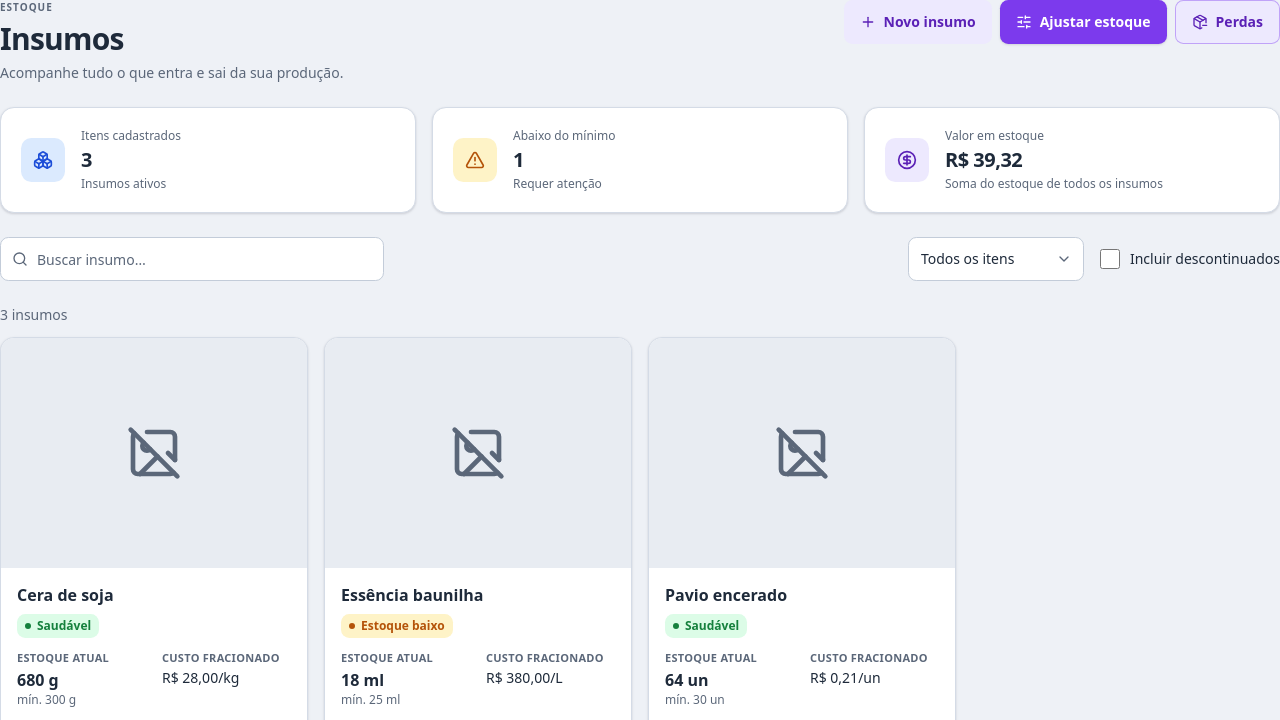
registering a material › asks for every empty required field instead of sending zeros
The width and height of the screenshot is (1280, 720).
Expected: the link "Cera de soja" is shown, top-left (17, 584), bottom-right (114, 606)
Click the button "Novo insumo" at [918, 22], box top-left (844, 0), bottom-right (992, 44)
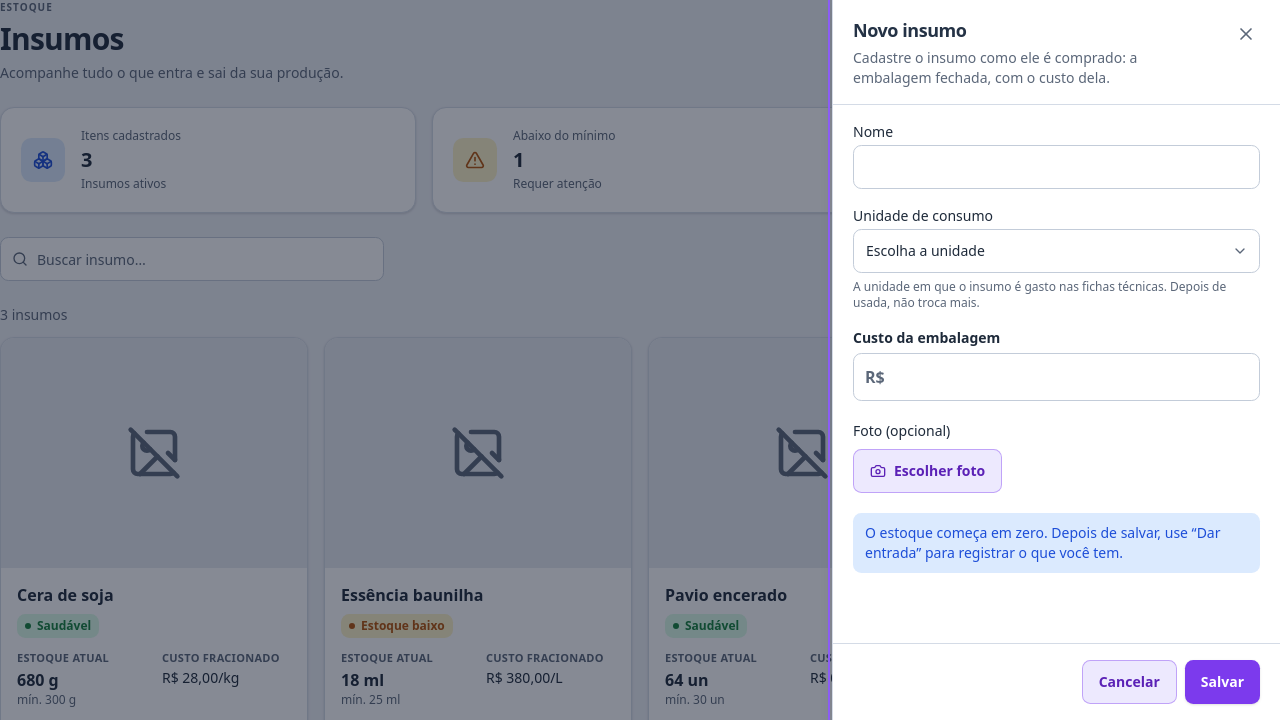
Select "Gramas (g)" in the dropdown labelled "Unidade de consumo" at [1056, 251], box top-left (853, 229), bottom-right (1260, 273)
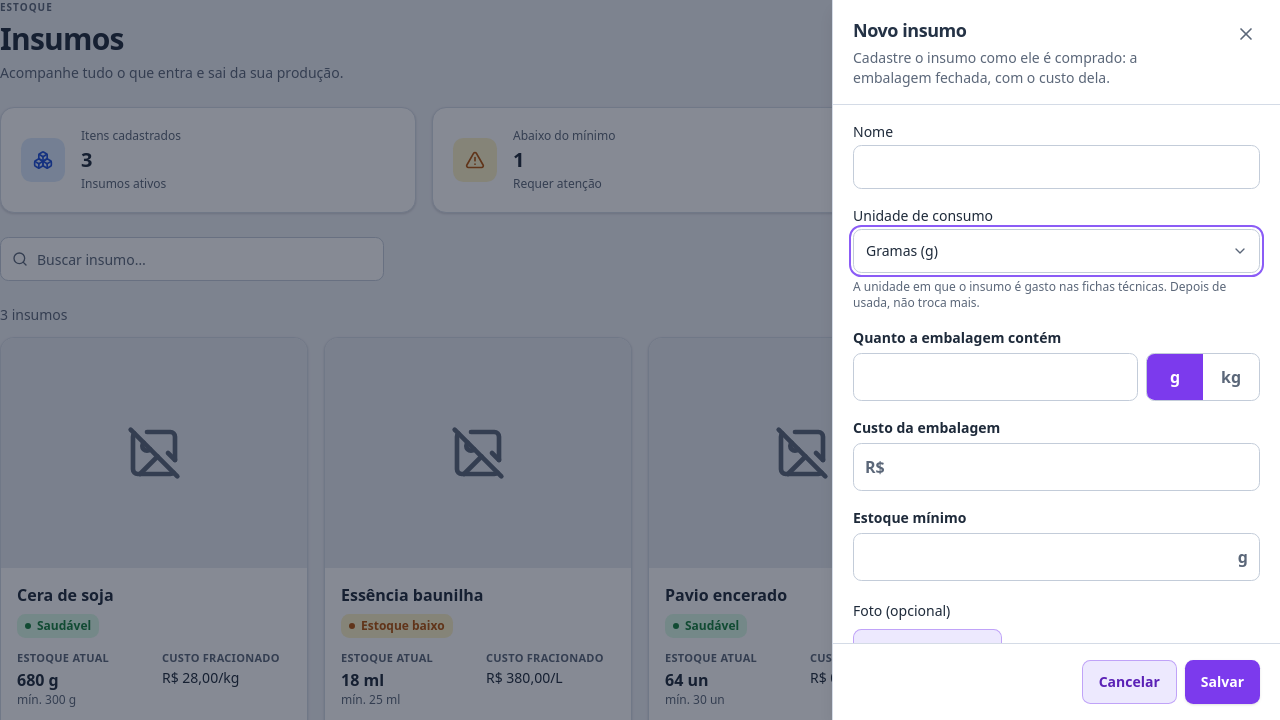
Click the button "Salvar" at [1222, 682], box top-left (1185, 660), bottom-right (1260, 704)
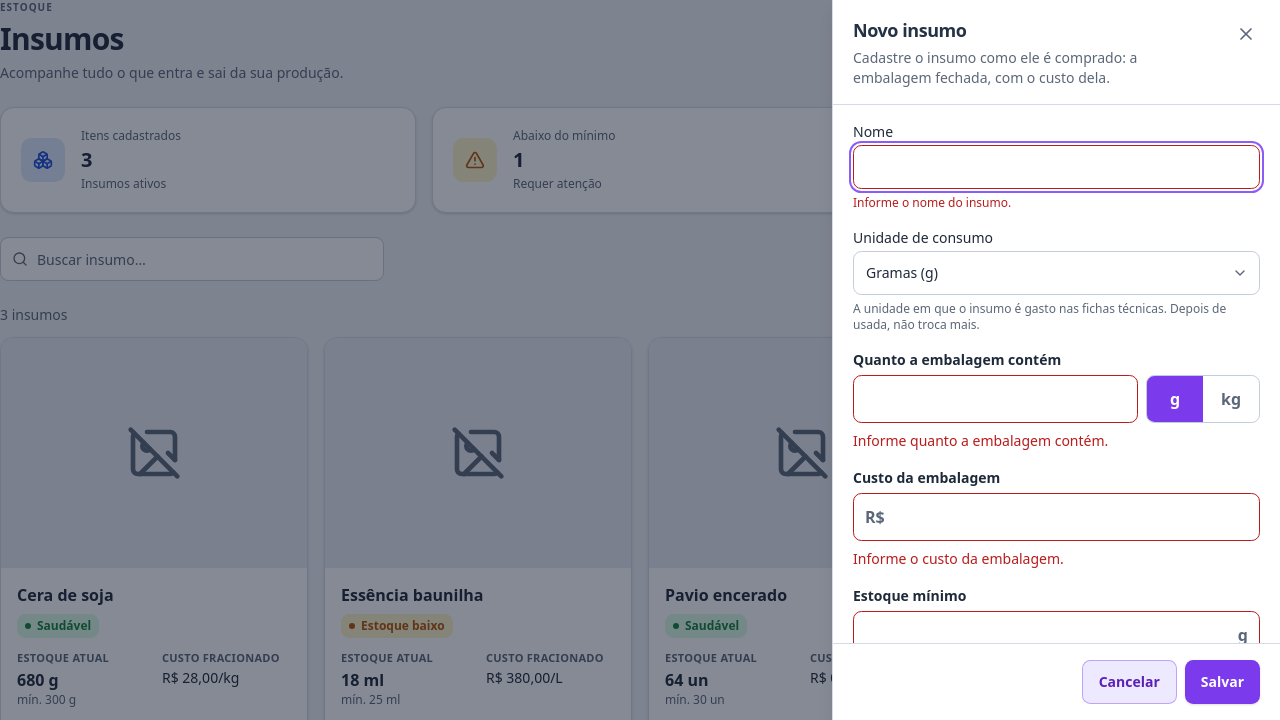
Expected: the text "Informe o nome do insumo." is shown, top-left (853, 194), bottom-right (1011, 211)
Expected: the text "Informe quanto a embalagem contém." is shown, top-left (853, 431), bottom-right (1108, 450)
Expected: the text "Informe o custo da embalagem." is shown, top-left (853, 549), bottom-right (1064, 568)
